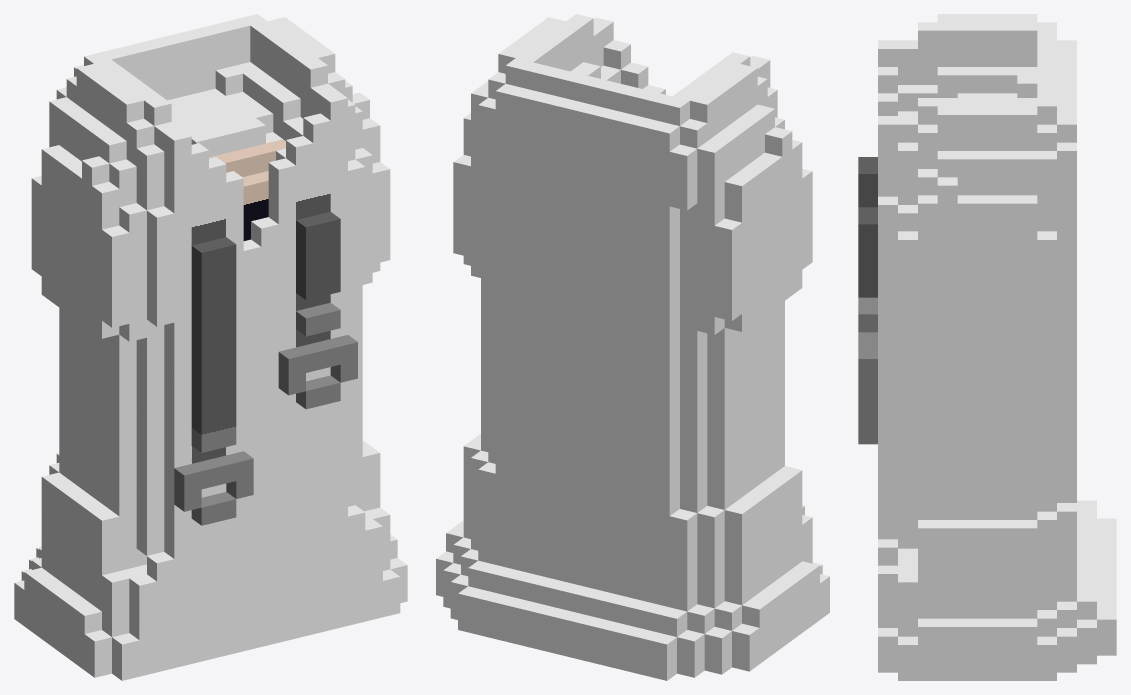
Rendered from T_PASKI_BIG.dae.
The picture shows the model from 3 angles, left to right: view 1: azimuth 30°, elevation 25°; view 2: azimuth 150°, elevation 25°; view 3: azimuth 270°, elevation 25°; orthographic projection.
Parts seen in each view (by area): view 1: Content; view 2: Content; view 3: Content.
Boxes of the visible parts, x1,y1,x2,y2 form: Content: [14, 14, 407, 680]; Content: [436, 14, 829, 680]; Content: [858, 14, 1116, 680].
Size of the model in its own units: 18 by 30 by 13.
1 material, 1 textured.
